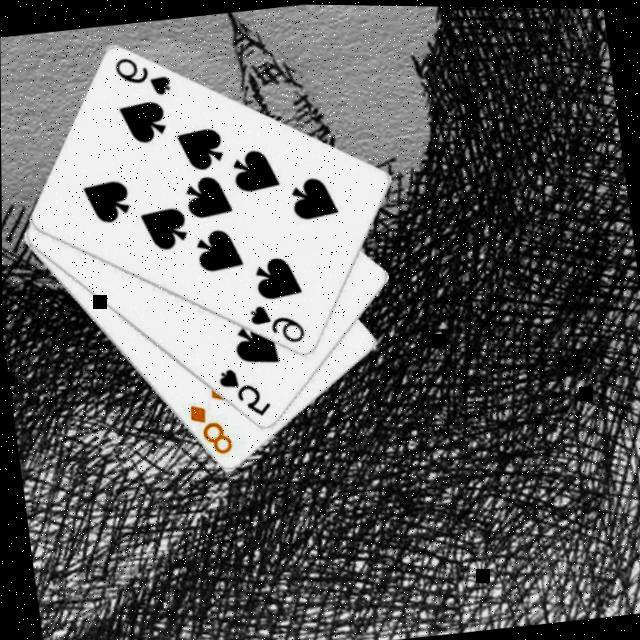5S: (211, 359, 272, 422)
8D: (182, 395, 234, 461)
9S: (108, 47, 171, 103), (243, 296, 306, 350)
